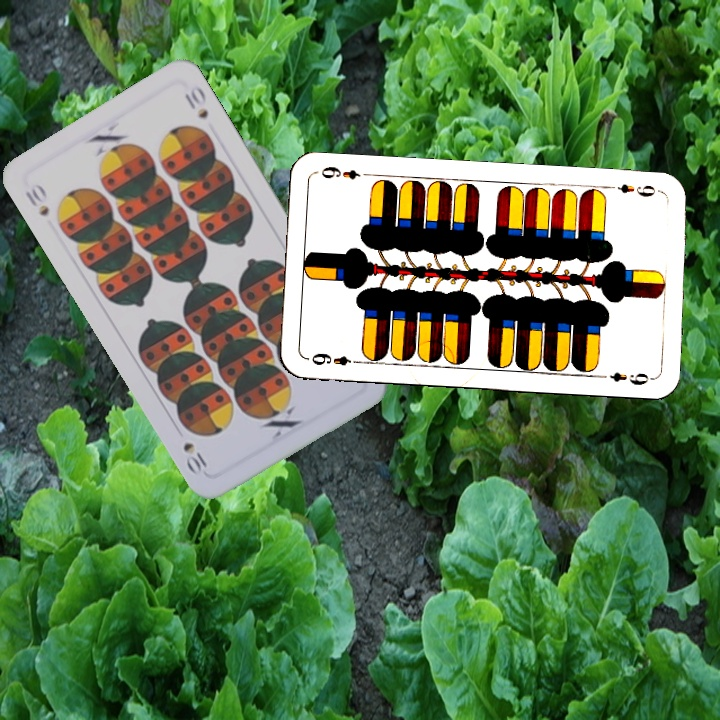E9: (307, 348, 364, 368), (613, 180, 664, 200)
S10: (21, 179, 52, 219)
